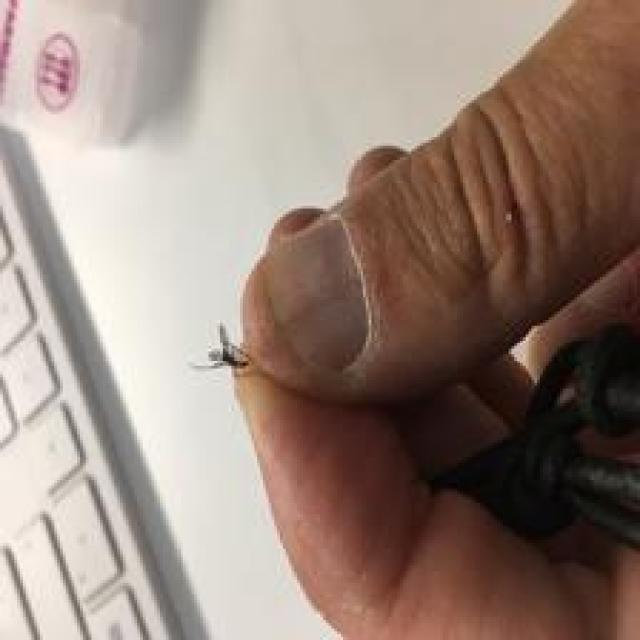Aedes albopictus: (188, 321, 252, 376)
